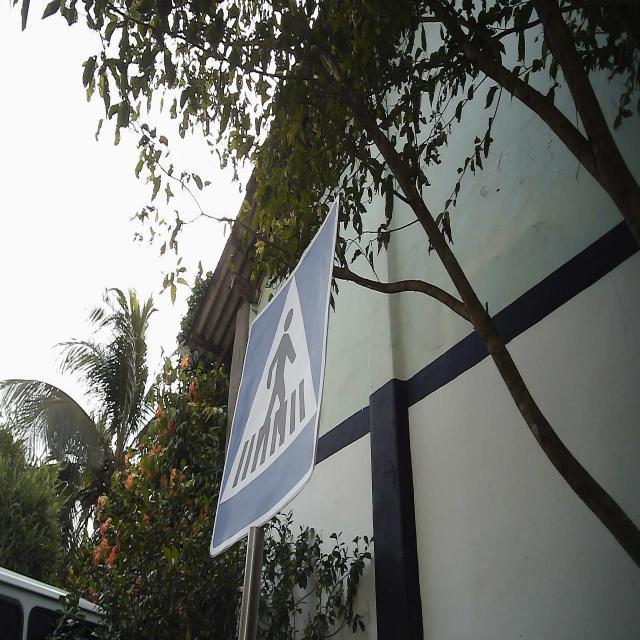crosswalk_sign: (208, 191, 341, 561)
